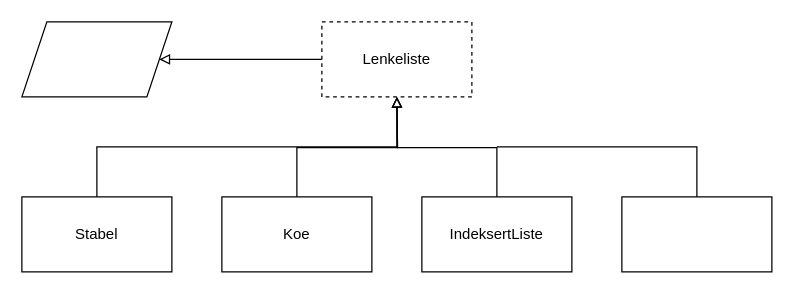
This 794x294 diagram has some shape labels left out. The shapes that lost their labels are listed below. From the top down, each one's box as (x1, y1, x2, y2) in pixels, then its label:
(21, 21, 172, 97): Liste
(621, 196, 772, 272): Prioritetskoe
